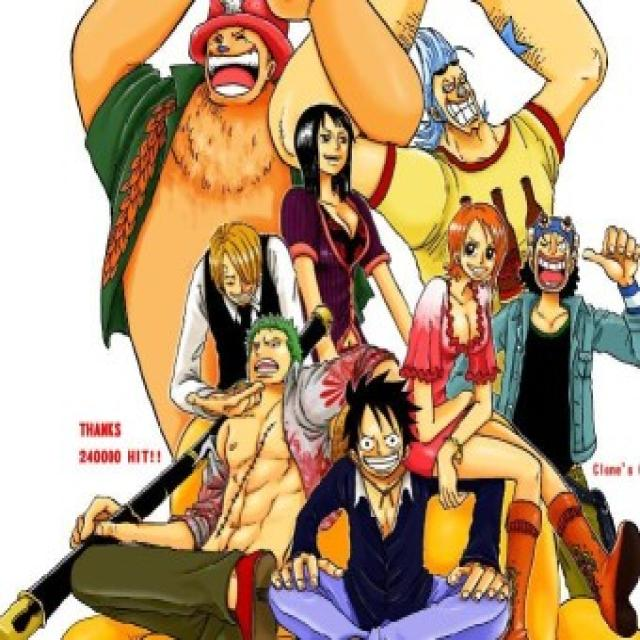Chyopa: (181, 0, 303, 107)
Franky: (410, 11, 494, 151)
Luffy: (325, 364, 421, 504)
Nami: (443, 200, 518, 292)
NicoRobin: (285, 103, 364, 212)
Sangdi: (203, 216, 275, 314)
Usopp: (516, 209, 592, 302)
Zoro: (240, 314, 314, 391)
